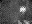person: (19, 6, 27, 11), (24, 20, 29, 23), (19, 20, 22, 23)
